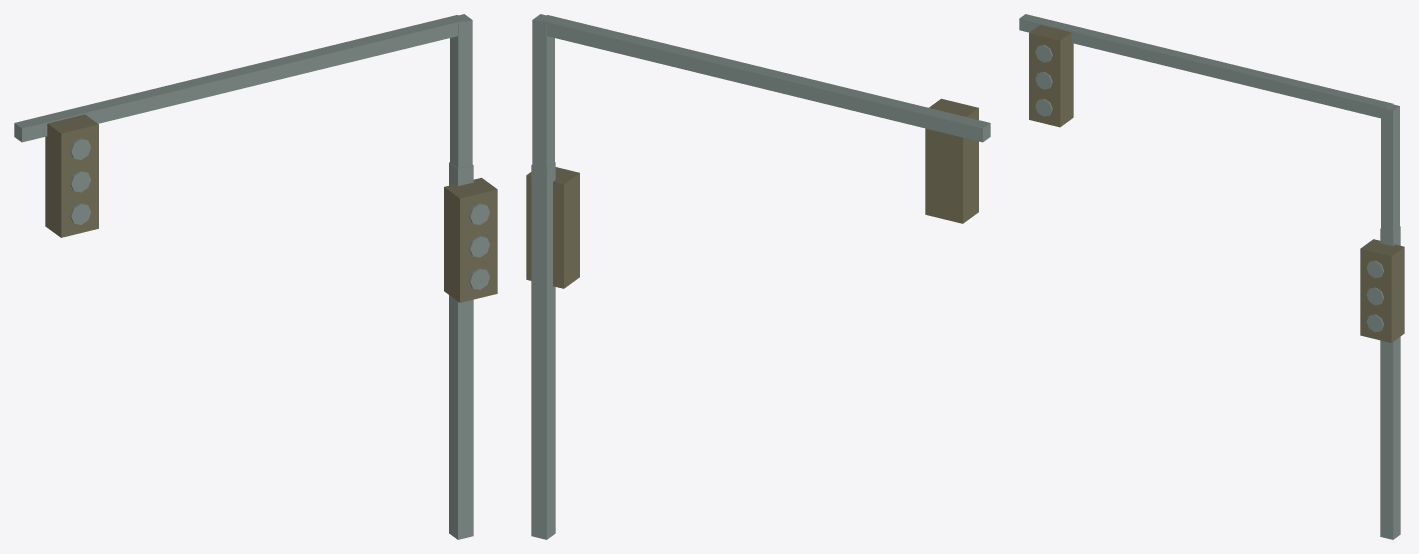
File: SM_Semaforo_v1_Brazo_LOD0.fbx
3 views of the same model, side by side, from view 1: azimuth 30°, elevation 25°; view 2: azimuth 150°, elevation 25°; view 3: azimuth 330°, elevation 25° (orthographic). The views are drawn at different scales.
Visible parts, largest first — view 1: SM_urbano_extra_v21_LOD0; view 2: SM_urbano_extra_v21_LOD0; view 3: SM_urbano_extra_v21_LOD0.
Part boxes in pixels (x1=…): SM_urbano_extra_v21_LOD0: x1=14, y1=14, x2=497, y2=539; SM_urbano_extra_v21_LOD0: x1=526, y1=14, x2=990, y2=539; SM_urbano_extra_v21_LOD0: x1=1019, y1=14, x2=1404, y2=539.
Bounding box in the file's own units: 4.17 × 4.46 × 0.365.
